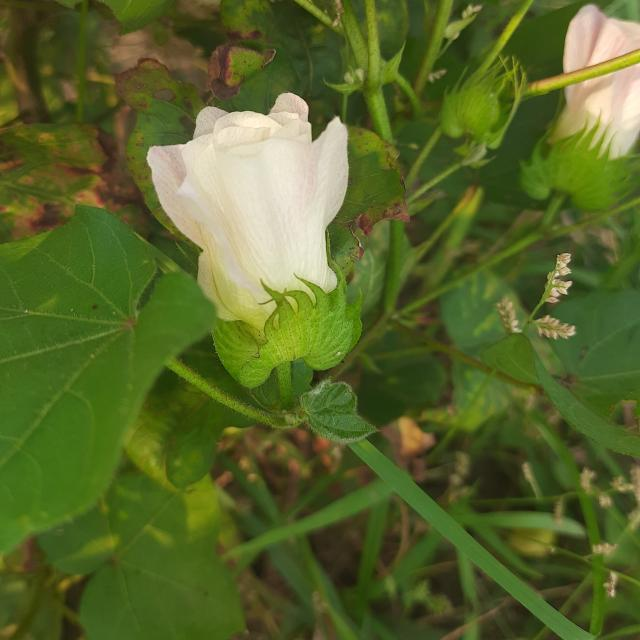Cotton Blossom: (126, 77, 378, 381), (526, 0, 640, 202)
Cotton Bud: (438, 55, 520, 149)
